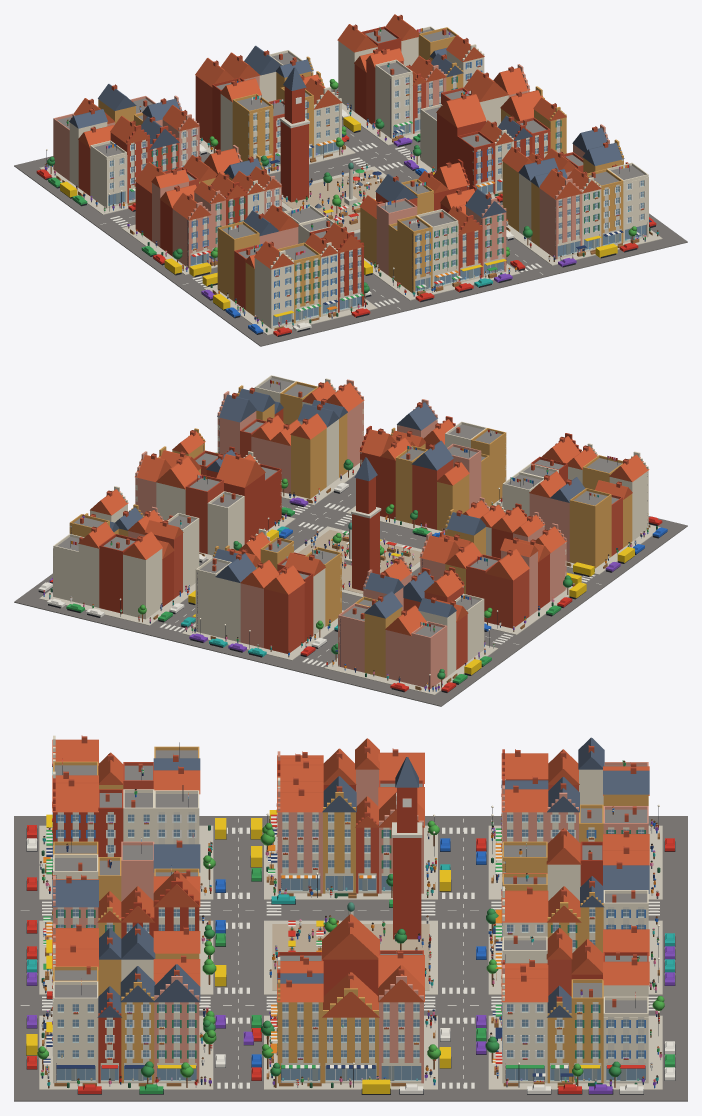
File: quartier.glb
3 renders of one model, top to bottom at view 1: azimuth 30°, elevation 25°; view 2: azimuth 150°, elevation 25°; view 3: azimuth 270°, elevation 25°, orthographic. The views are drawn at different scales.
Visible parts, largest first — view 1: Quartier, Vitres; view 2: Quartier; view 3: Quartier, Vitres.
Boxes of the visible parts, left/top/right/bottom form: Quartier: left=14, top=14, right=687, bottom=346; Vitres: left=108, top=60, right=646, bottom=326; Quartier: left=14, top=375, right=687, bottom=706; Quartier: left=14, top=735, right=687, bottom=1101; Vitres: left=56, top=814, right=645, bottom=1080.
Bounding box in the file's own units: 120 × 35.01 × 120.
